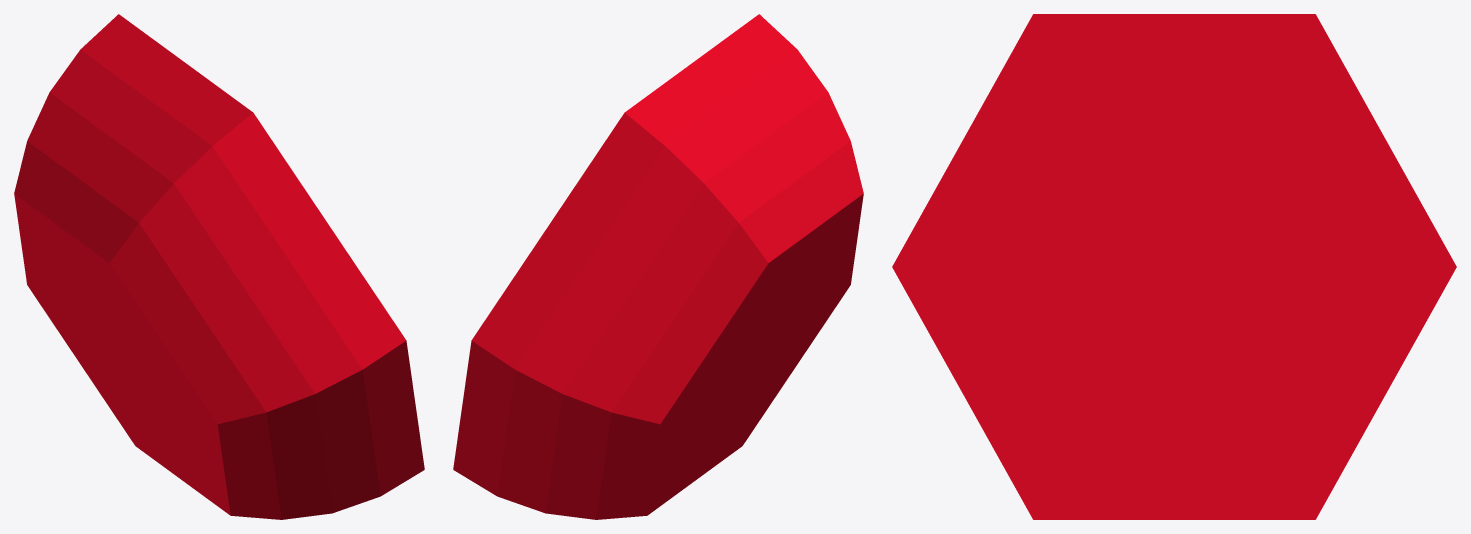
Rendered from ship_laser.glb.
3 renders of one model, left to right at view 1: azimuth 30°, elevation 25°; view 2: azimuth 150°, elevation 25°; view 3: azimuth 270°, elevation 25°, orthographic. The views are drawn at different scales.
Visible parts, largest first — view 1: L2; view 2: L2; view 3: L2.
Part boxes in pixels (x1,y1,x2,y2): L2: (14,14,424,519); L2: (453,14,863,519); L2: (892,14,1456,519).
Size of the model in its own units: 0.5023 by 0.6904 by 0.7926.
